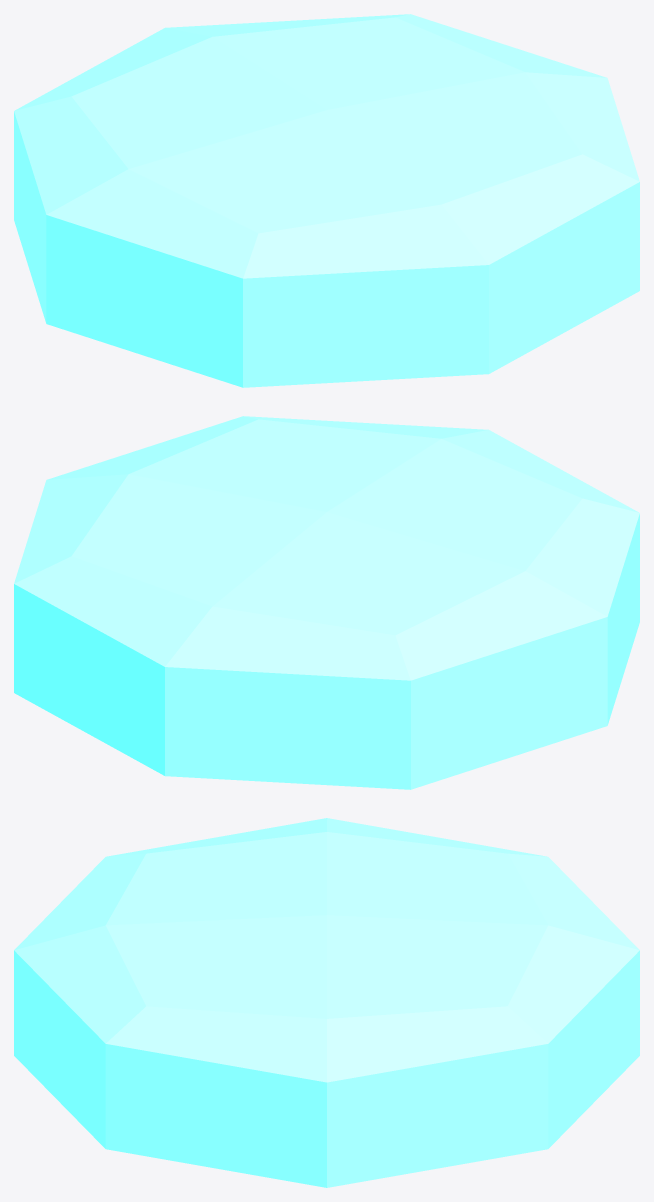
File: Unused_in_level_test.glb
The picture shows the model from 3 angles, top to bottom: view 1: azimuth 30°, elevation 25°; view 2: azimuth 150°, elevation 25°; view 3: azimuth 270°, elevation 25°; orthographic projection. The views are drawn at different scales.
Visible parts, largest first — view 1: Unused_in_level_test_geometry; view 2: Unused_in_level_test_geometry; view 3: Unused_in_level_test_geometry.
Boxes of the visible parts, x1,y1,x2,y2 form: Unused_in_level_test_geometry: (14,14,639,387); Unused_in_level_test_geometry: (14,416,639,789); Unused_in_level_test_geometry: (14,818,639,1187).
Size of the model in its own units: 2.33 by 0.7214 by 2.33.
